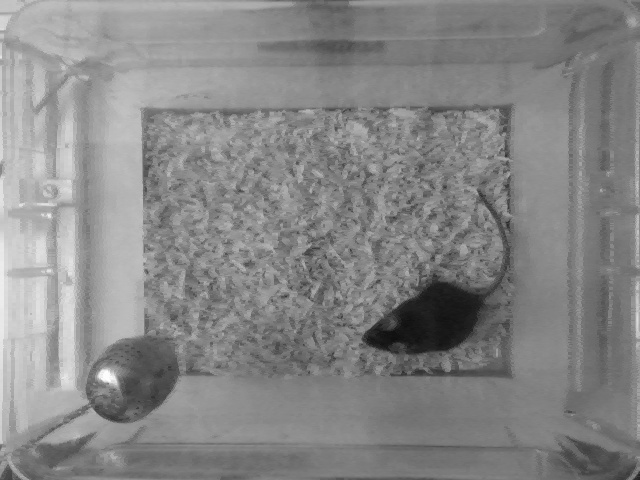mice: (355, 187, 510, 357)
